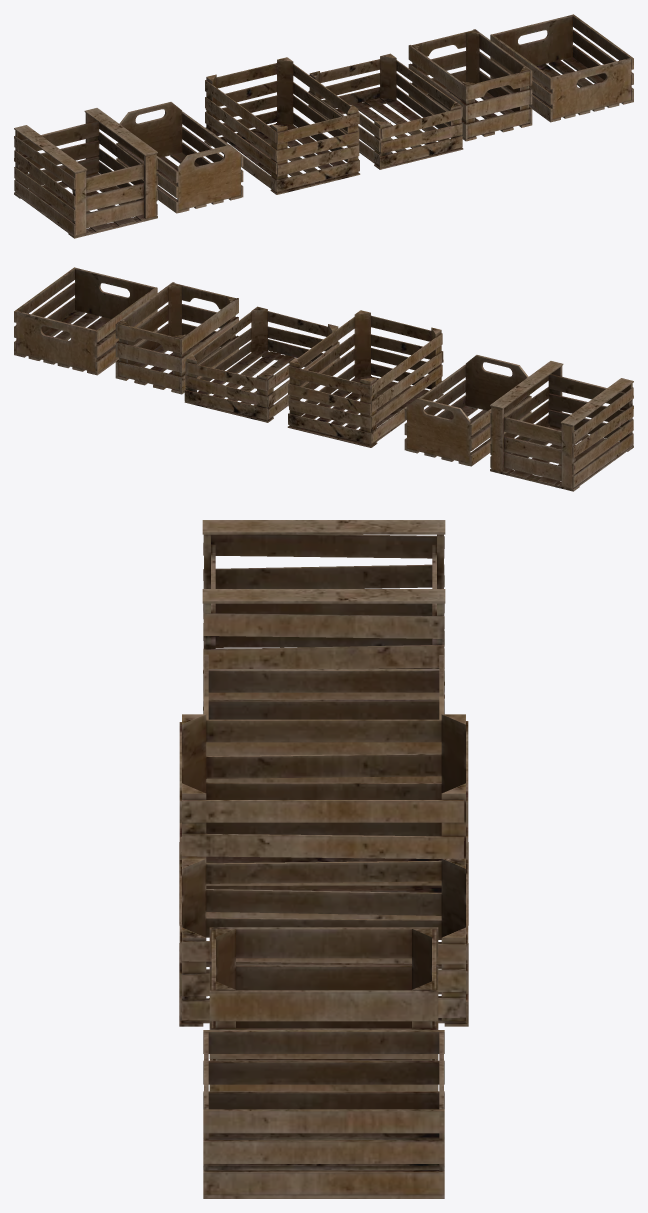
File: prop_cajas.glb
The picture shows the model from 3 angles, top to bottom: view 1: azimuth 30°, elevation 25°; view 2: azimuth 150°, elevation 25°; view 3: azimuth 270°, elevation 25°; orthographic projection. The views are drawn at different scales.
Visible parts, largest first — view 1: Box_604030_LOW, Box_504030_LOW, Box_604020_LOW, Box_504020_LOW, Box_453025_LOW, Box_503025_LOW; view 2: Box_604030_LOW, Box_504030_LOW, Box_604020_LOW, Box_504020_LOW, Box_453025_LOW, Box_503025_LOW; view 3: Box_604030_LOW, Box_504020_LOW, Box_504030_LOW, Box_453025_LOW, Box_604020_LOW, Box_503025_LOW.
Part boxes in pixels (x1,y1,x2,y2): Box_604030_LOW: [204, 57, 360, 194]; Box_504030_LOW: [14, 108, 157, 238]; Box_604020_LOW: [308, 53, 463, 169]; Box_504020_LOW: [490, 14, 633, 122]; Box_453025_LOW: [408, 29, 532, 141]; Box_503025_LOW: [116, 102, 243, 213]; Box_604030_LOW: [287, 310, 443, 447]; Box_504030_LOW: [490, 361, 633, 491]; Box_604020_LOW: [184, 306, 340, 422]; Box_504020_LOW: [14, 267, 157, 375]; Box_453025_LOW: [115, 282, 238, 394]; Box_503025_LOW: [404, 355, 531, 466]; Box_604030_LOW: [179, 714, 468, 925]; Box_504020_LOW: [203, 1030, 444, 1198]; Box_504030_LOW: [202, 520, 445, 710]; Box_453025_LOW: [209, 927, 438, 1091]; Box_604020_LOW: [179, 858, 468, 1026]; Box_503025_LOW: [203, 654, 444, 782].
Bounding box in the file's own units: 2.68 × 0.3037 × 0.6.
1 material, 1 textured.
